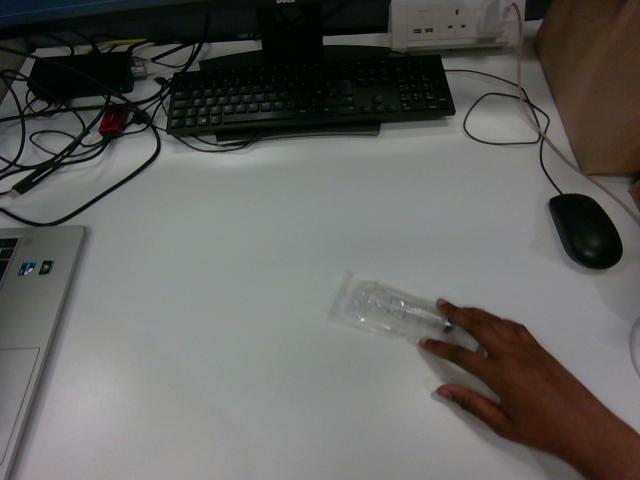syringe: (329, 272, 480, 350), (630, 317, 639, 375)
